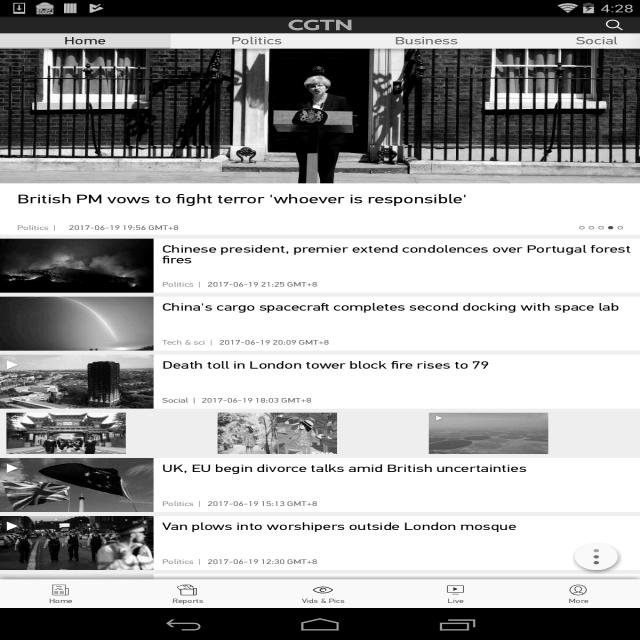ImageButton: (570, 538, 623, 574)
ImageView: (0, 49, 640, 183), (0, 296, 154, 351), (0, 238, 154, 292), (0, 354, 154, 408), (0, 458, 154, 512), (0, 516, 154, 570), (0, 574, 154, 628), (6, 413, 126, 454), (218, 413, 337, 454), (429, 413, 548, 454), (0, 49, 640, 54), (0, 574, 640, 579), (589, 17, 640, 33), (288, 20, 352, 30), (584, 548, 609, 564), (0, 243, 26, 256), (0, 301, 26, 314), (0, 359, 26, 372), (0, 462, 26, 475), (0, 520, 26, 533), (0, 578, 26, 591), (10, 415, 24, 422), (222, 415, 235, 422), (433, 415, 446, 422), (579, 226, 585, 229), (598, 226, 604, 229), (589, 226, 594, 229), (608, 226, 613, 229), (618, 226, 623, 229)
RadioButton: (252, 582, 395, 604), (123, 582, 252, 604), (0, 582, 123, 604), (517, 582, 640, 604), (395, 582, 517, 604)
TextView: (0, 183, 571, 224), (162, 239, 632, 266), (162, 296, 619, 314), (162, 458, 527, 475), (162, 516, 517, 533), (162, 354, 490, 372), (162, 574, 495, 591), (208, 280, 318, 289), (219, 338, 329, 347), (202, 396, 312, 405), (395, 34, 458, 48), (68, 224, 178, 232), (208, 500, 318, 508), (208, 558, 318, 566), (230, 34, 282, 48), (64, 34, 106, 48), (576, 34, 618, 48), (162, 338, 219, 347), (162, 280, 208, 289), (162, 500, 208, 508), (162, 558, 208, 566), (162, 396, 202, 405), (17, 224, 56, 232)
